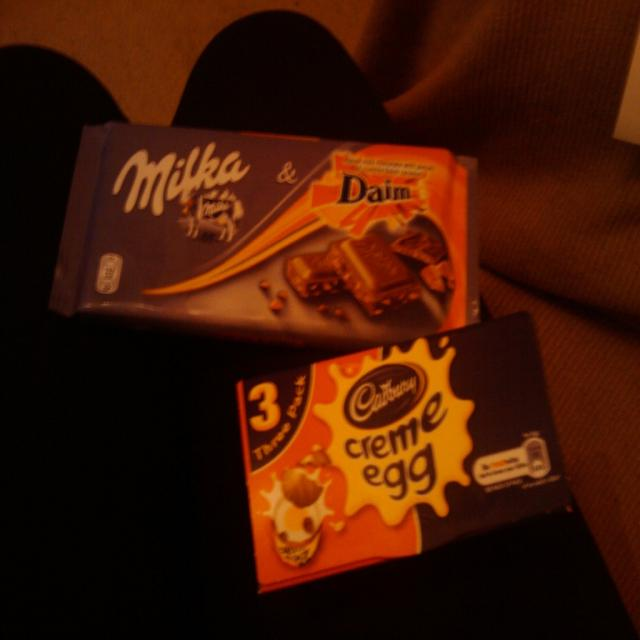milka: (106, 136, 253, 252)
